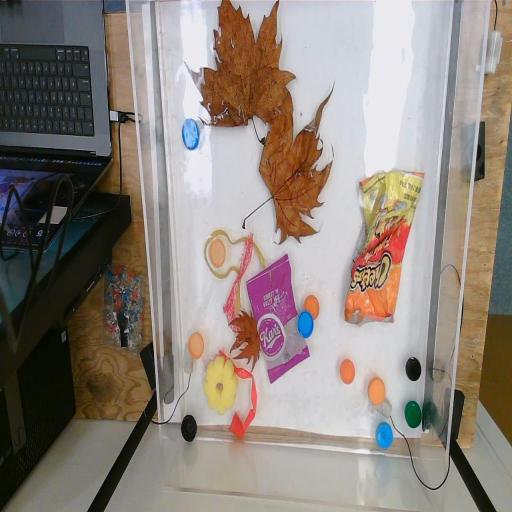Bottle Cap: (182, 117, 200, 151), (368, 376, 386, 406), (404, 400, 422, 430), (180, 413, 198, 443), (209, 238, 226, 268), (302, 294, 320, 322), (376, 422, 393, 450), (404, 356, 422, 382), (188, 332, 204, 360), (298, 310, 314, 338), (340, 358, 356, 385)
Leaf: (183, 0, 296, 144), (242, 78, 336, 247), (228, 311, 262, 371)
Netting: (223, 233, 253, 335)
Plastic Bag: (345, 168, 425, 326), (246, 252, 310, 384)
Plastic Strand: (204, 228, 267, 313), (220, 349, 258, 441)
Sponge: (204, 356, 238, 418)
